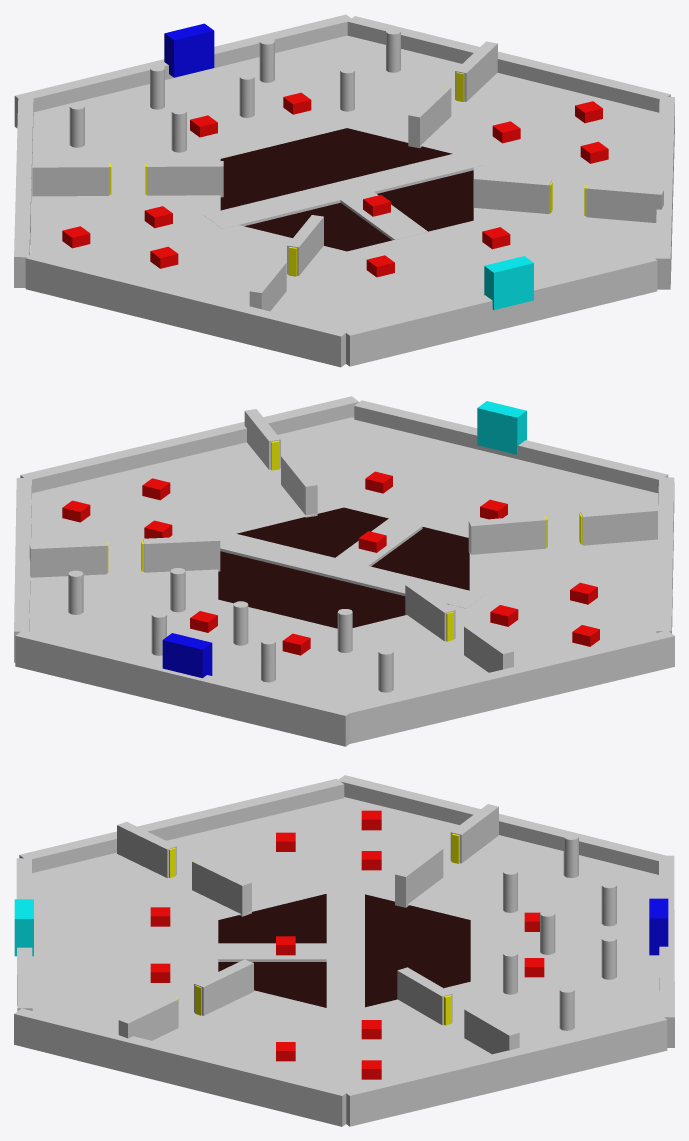
File: Level2_b7.fbx
The picture shows the model from 3 angles, top to bottom: view 1: azimuth 30°, elevation 25°; view 2: azimuth 150°, elevation 25°; view 3: azimuth 270°, elevation 25°; orthographic projection.
Visible parts, largest first — view 1: Cylinder001, Box040, Box034, Box038, Box037, Box039, Box002, Box035, Box036, Box010, Box011, Box019 (+15 smaller); view 2: Cylinder001, Box040, Box039, Box035, Box036, Box038, Box002, Box015, Box014, Box007, Box006, Box034 (+15 smaller); view 3: Cylinder001, Box040, Box036, Box037, Box035, Box034, Box002, Box039, Box015, Box019, Box014, Box010 (+15 smaller).
Part boxes in pixels (x1,y1,x2,y2): Cylinder001: (31,35,659,329); Box040: (220,128,473,251); Box034: (25,252,347,367); Box038: (343,255,657,366); Box037: (347,16,670,112); Box039: (14,14,351,127); Box002: (203,151,484,228); Box035: (14,95,33,287); Box036: (655,97,674,289); Box010: (146,161,223,197); Box011: (32,161,109,196); Box019: (474,173,551,213); Cylinder001: (29,417,658,707); Box040: (218,507,469,628); Box039: (15,631,352,746); Box035: (338,631,674,743); Box036: (20,396,358,493); Box038: (354,400,668,504); Box002: (219,531,485,608); Box015: (468,515,546,554); Box014: (580,505,657,545); Box007: (143,535,220,572); Box006: (29,540,106,577); Box034: (656,477,674,633); Cylinder001: (32,797,659,1089); Box040: (218,894,470,1007); Box036: (14,1008,349,1126); Box037: (343,1014,667,1126); Box035: (338,775,672,874); Box034: (19,778,344,873); Box002: (326,885,364,1013); Box039: (659,855,674,1047); Box015: (192,858,251,916); Box019: (194,959,253,1015); Box014: (117,821,176,878); Box010: (395,846,443,907).
Size of the model in its own units: 699 by 60.37 by 608.
